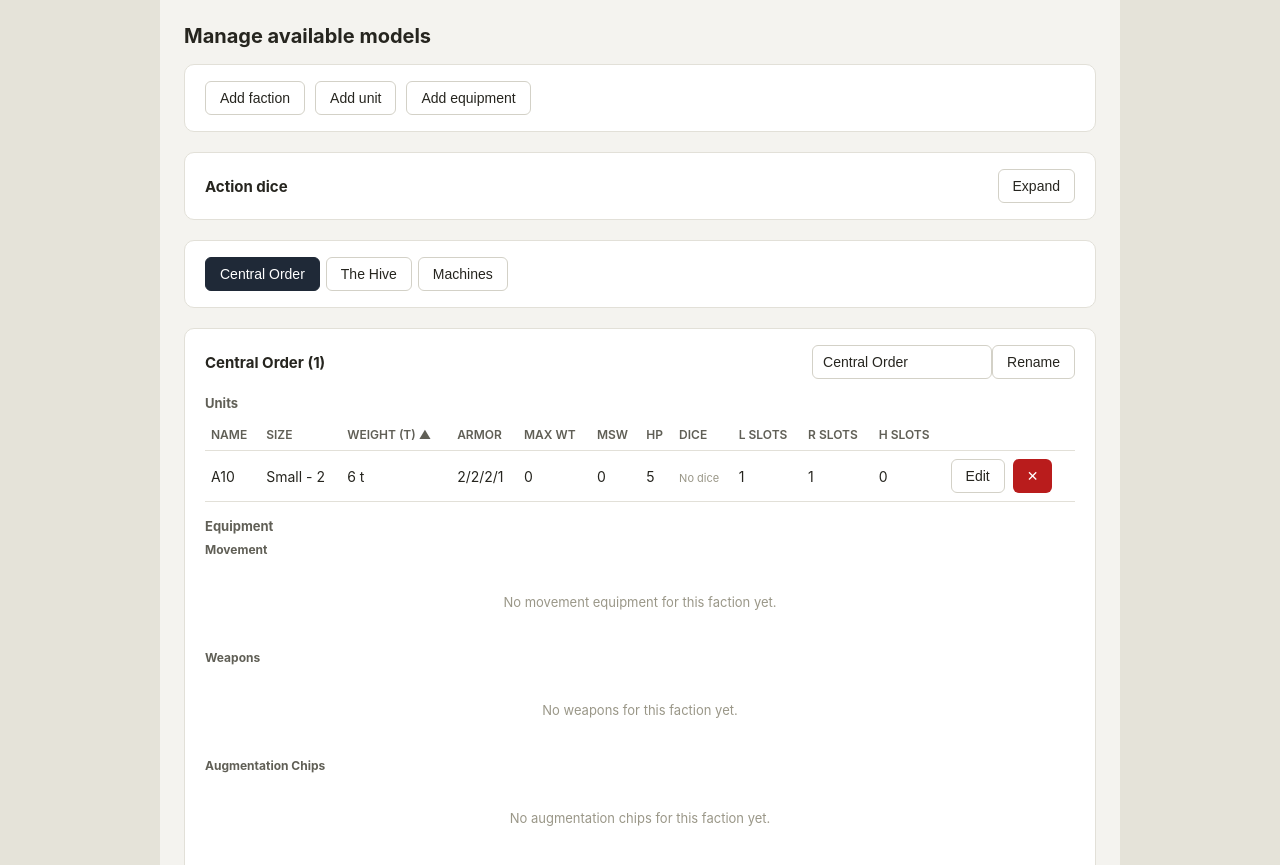
Scenario: ManagePage (#199) › adds a unit with 4 separate armor fields, storing them combined (#199)
Click the button "Add unit" at (356,98), box 315,81 -> 396,115
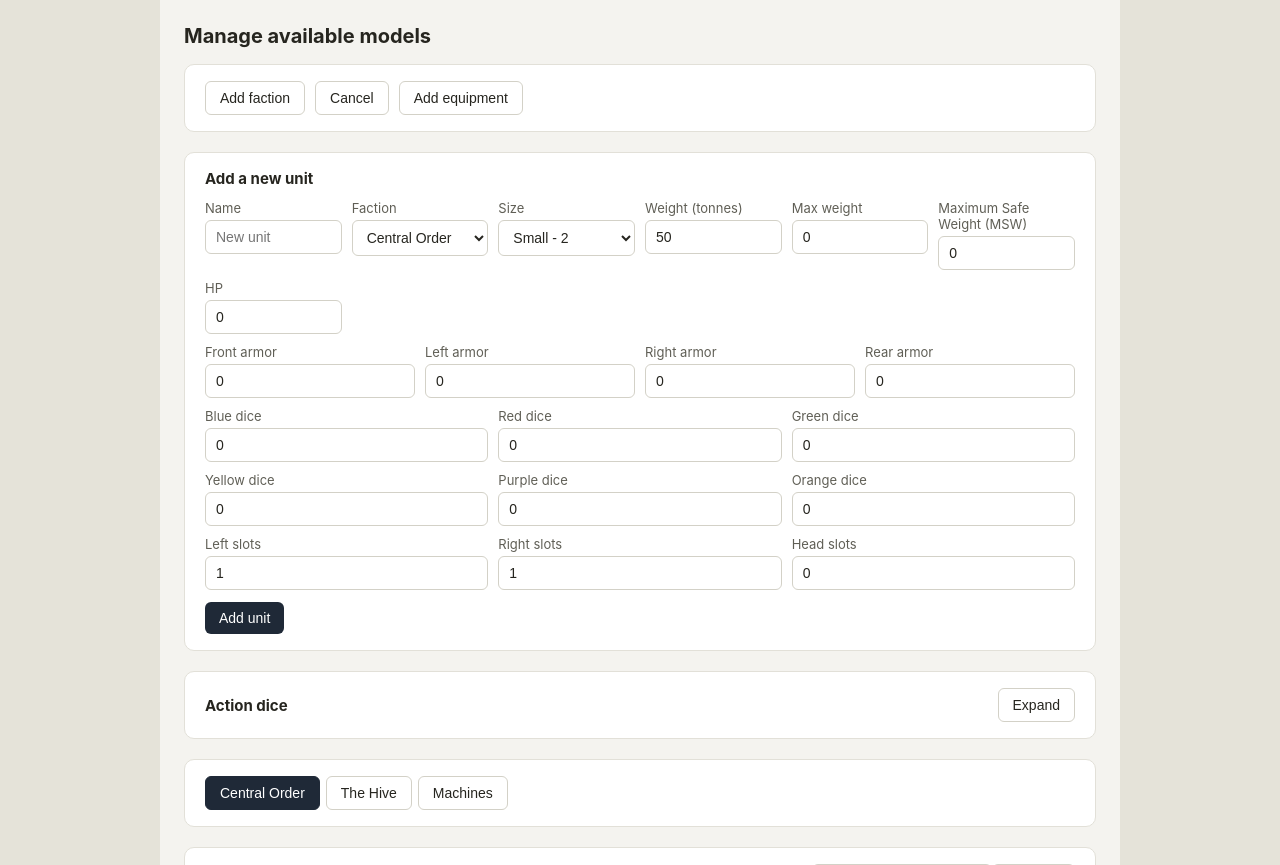
Type "A20" into the field labelled "Name" at (273,237), box 205,220 -> 342,254
Replace the text in the number field labelled "Front armor" with "4" at (310,381), box 205,364 -> 415,398
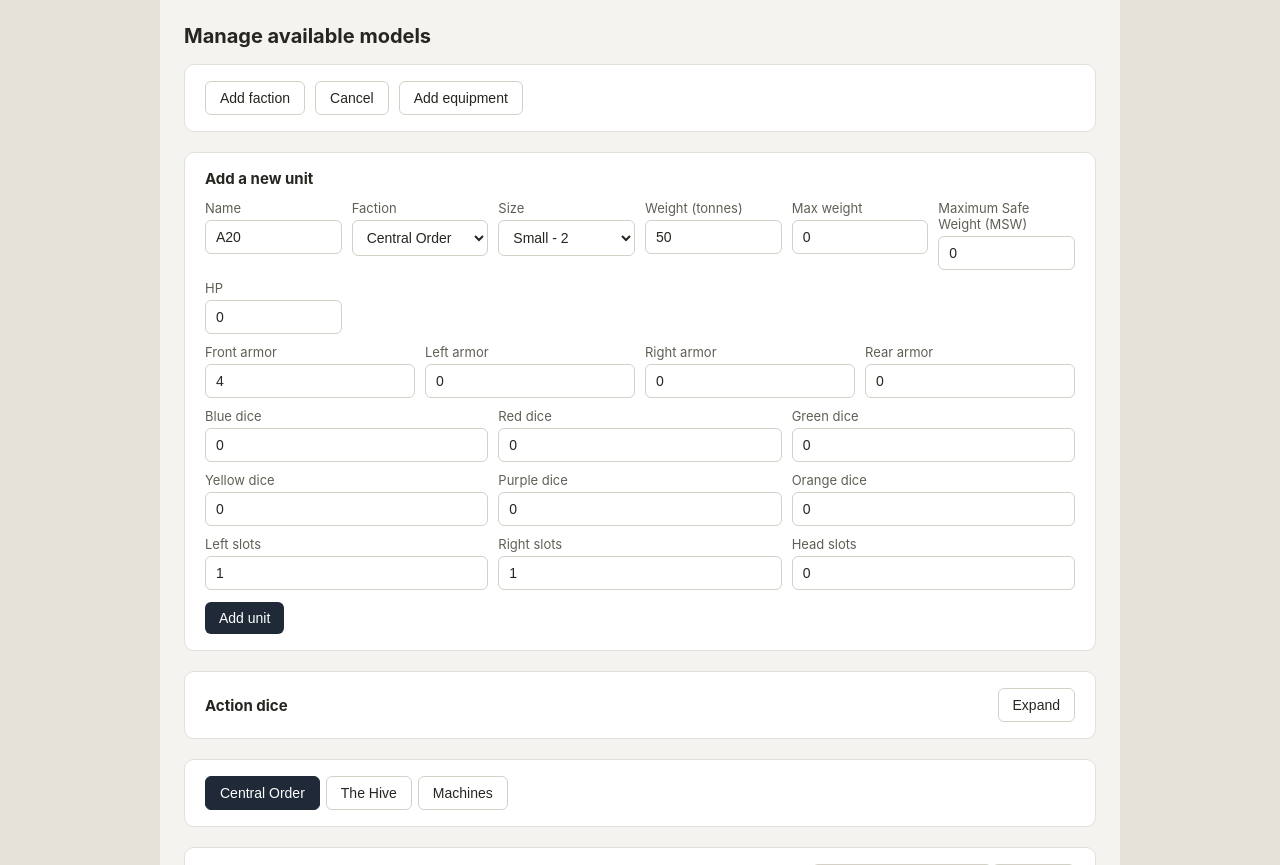
Replace the text in the number field labelled "Left armor" with "3" at (530,381), box 425,364 -> 635,398
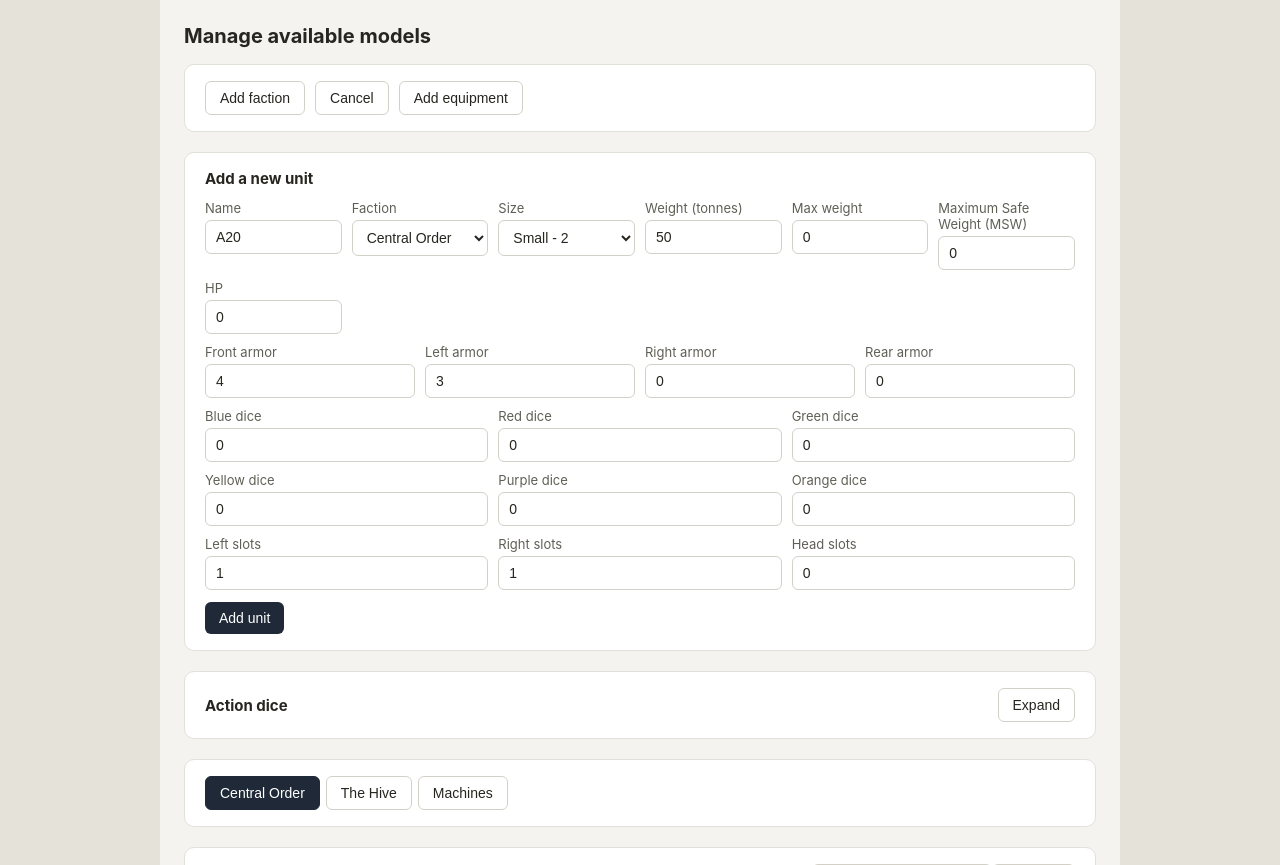
Replace the text in the number field labelled "Right armor" with "3" at (750,381), box 645,364 -> 855,398
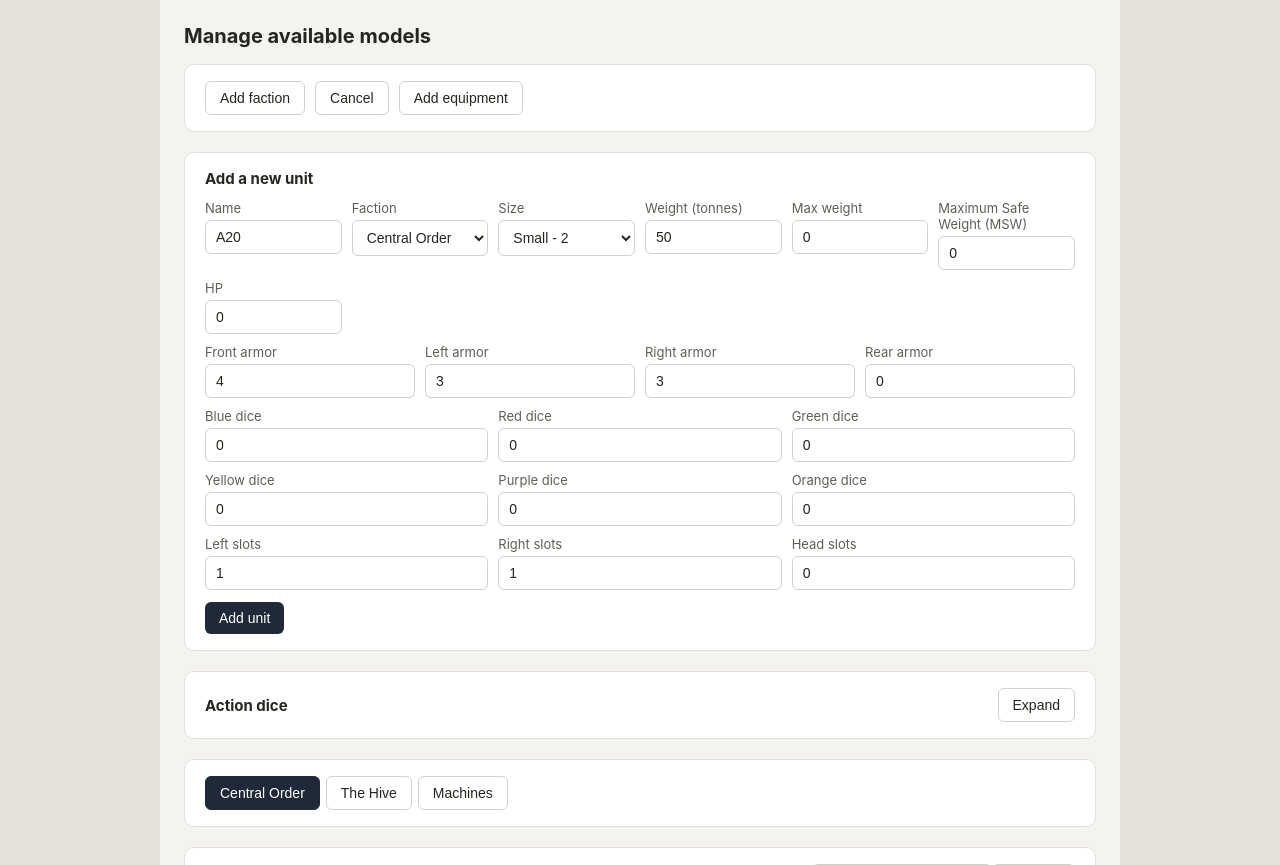
Replace the text in the number field labelled "Rear armor" with "2" at (970,381), box 865,364 -> 1075,398
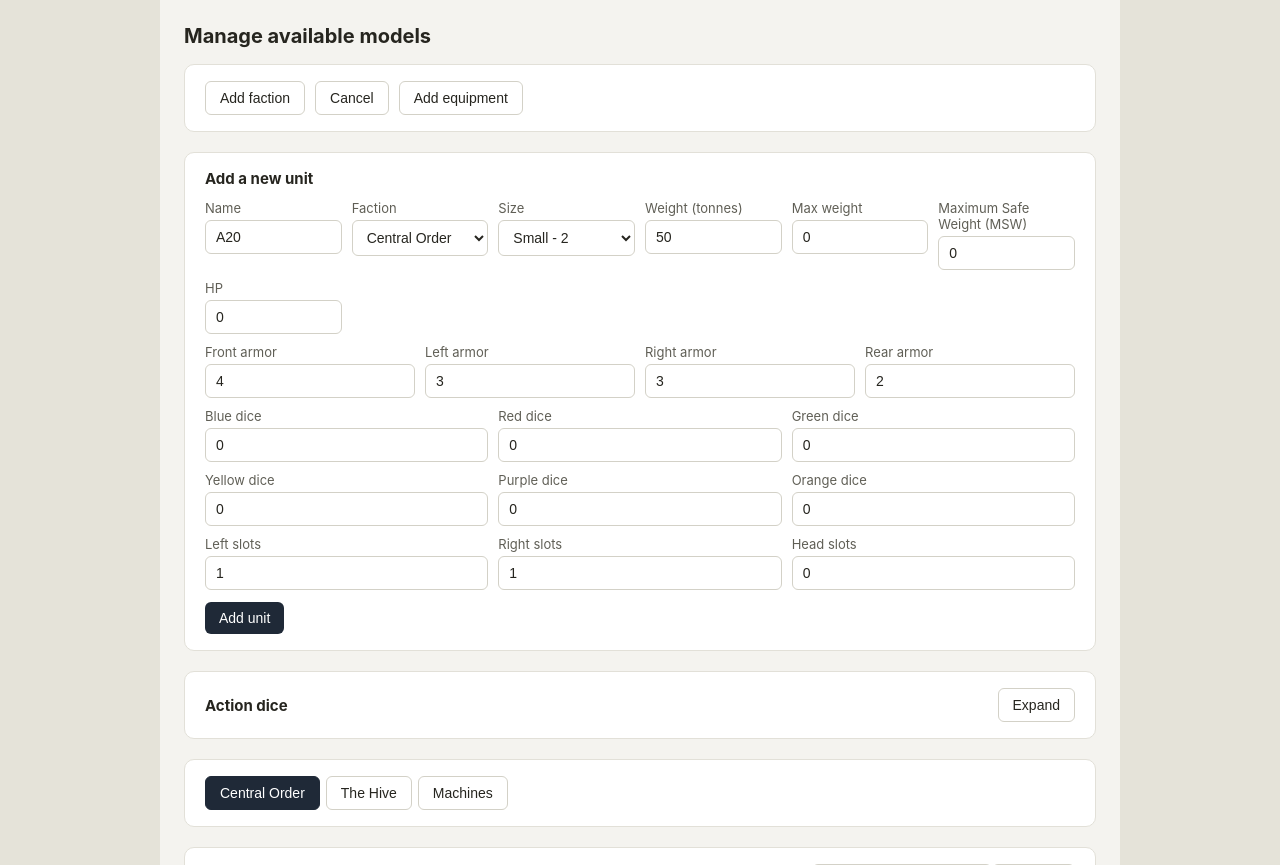
Click the button "Add unit" at (245,618), box 205,602 -> 284,634
(page scrolled)
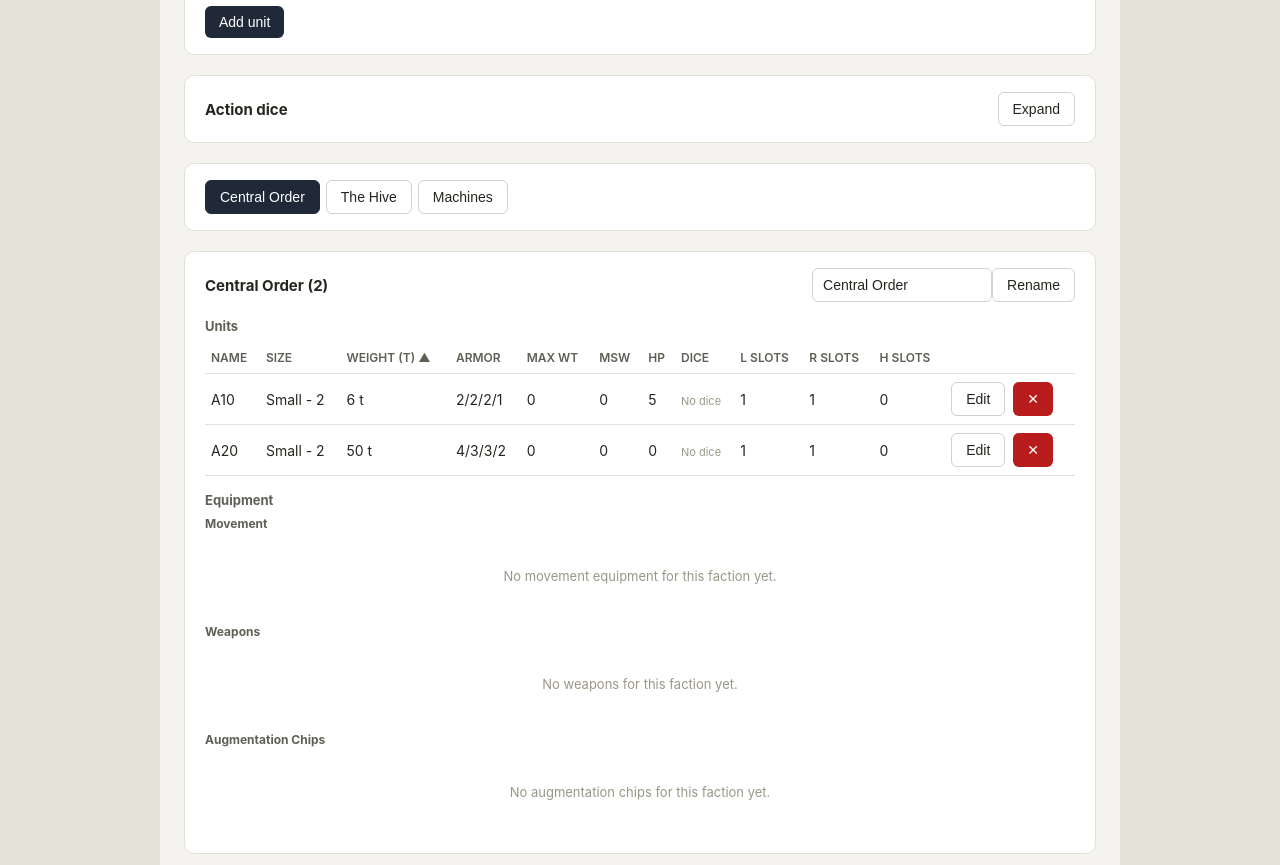
Check: the text "4/3/3/2" is shown, box 450,425 -> 521,476
